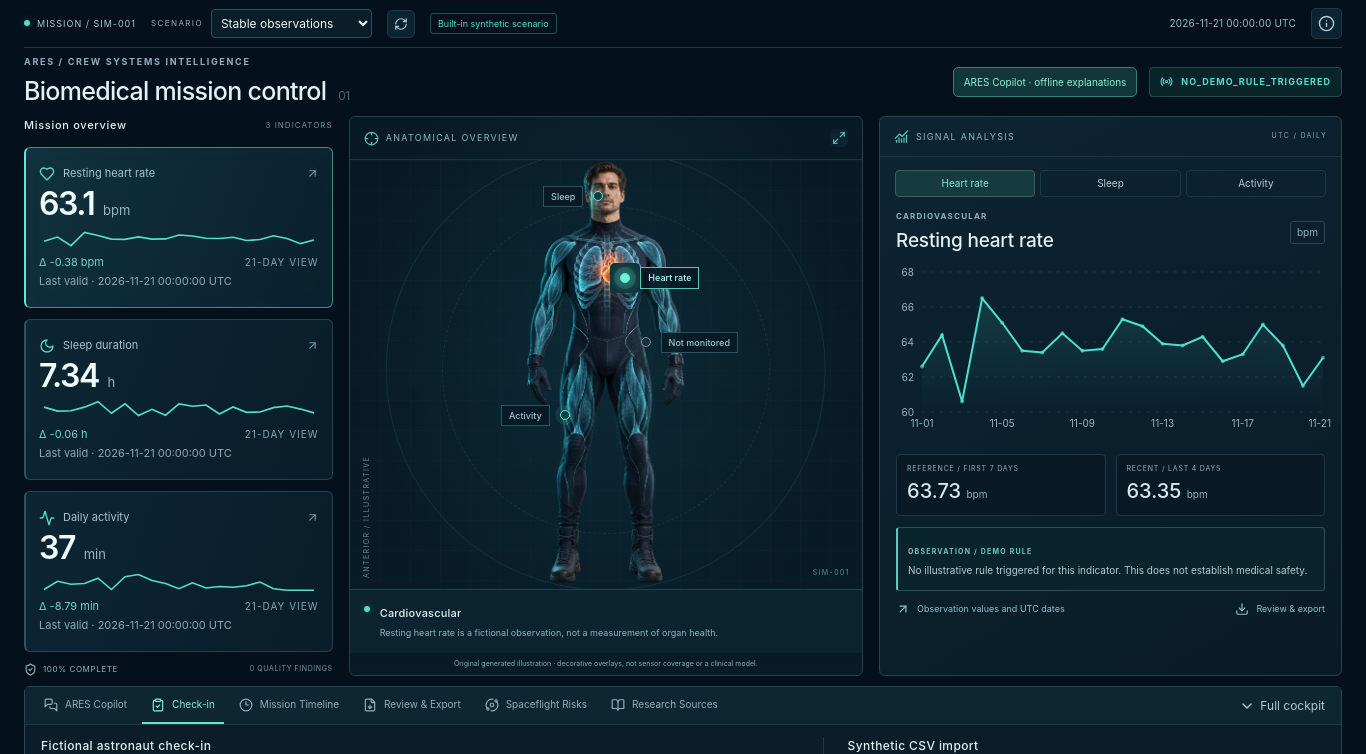
Test: loads real API shapes, all scenario states, physiological charts and scientific links
Expected: the heading "Mission overview" is shown, 24,118 -> 127,134
Click the tab "Research Sources": (664, 706) 602,687 -> 727,724
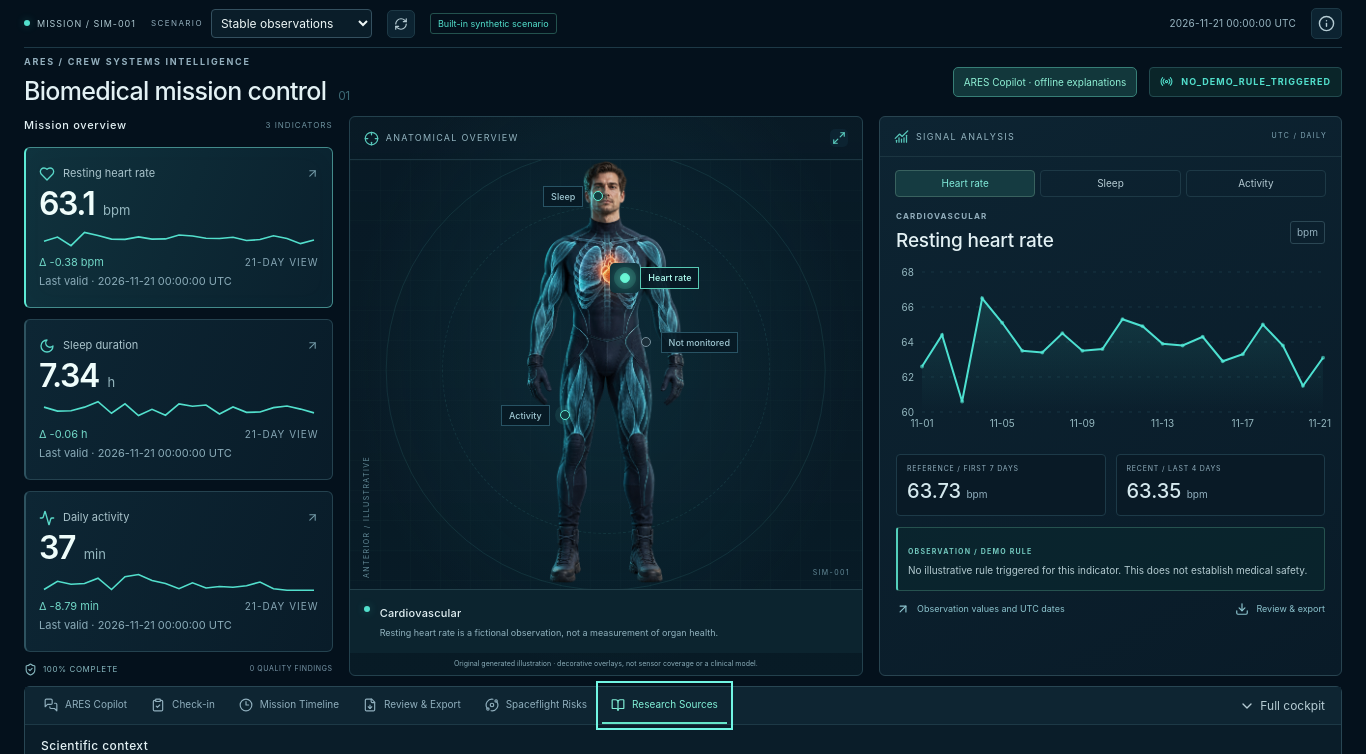
Select "Resting heart rate shift" in the dropdown named "Demo scenario": (291, 24) 211,9 -> 372,38
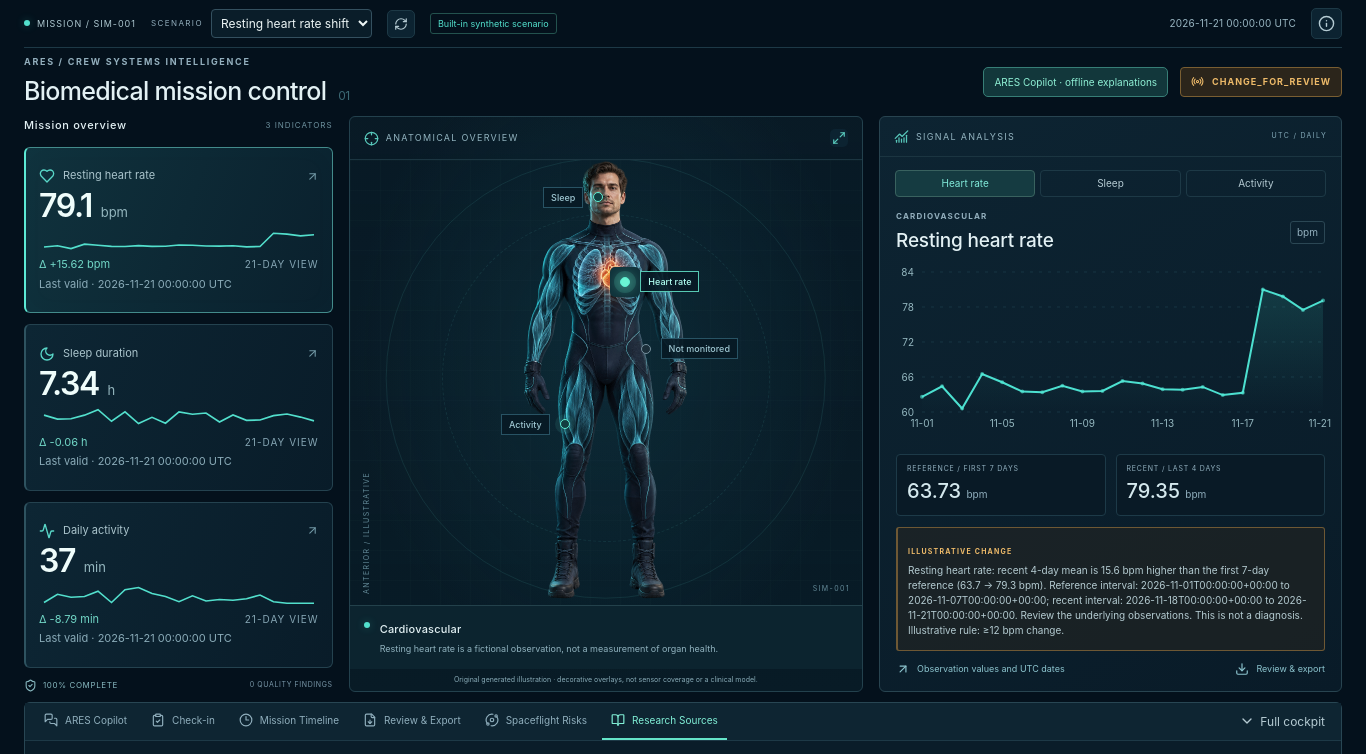
Expected: the heading "Mission overview" is shown, 24,118 -> 127,134
Result: the text "CHANGE_FOR_REVIEW" is shown at 1212,76 -> 1331,88
Select "Shortened sleep" in the dropdown named "Demo scenario": (291, 24) 211,9 -> 372,38
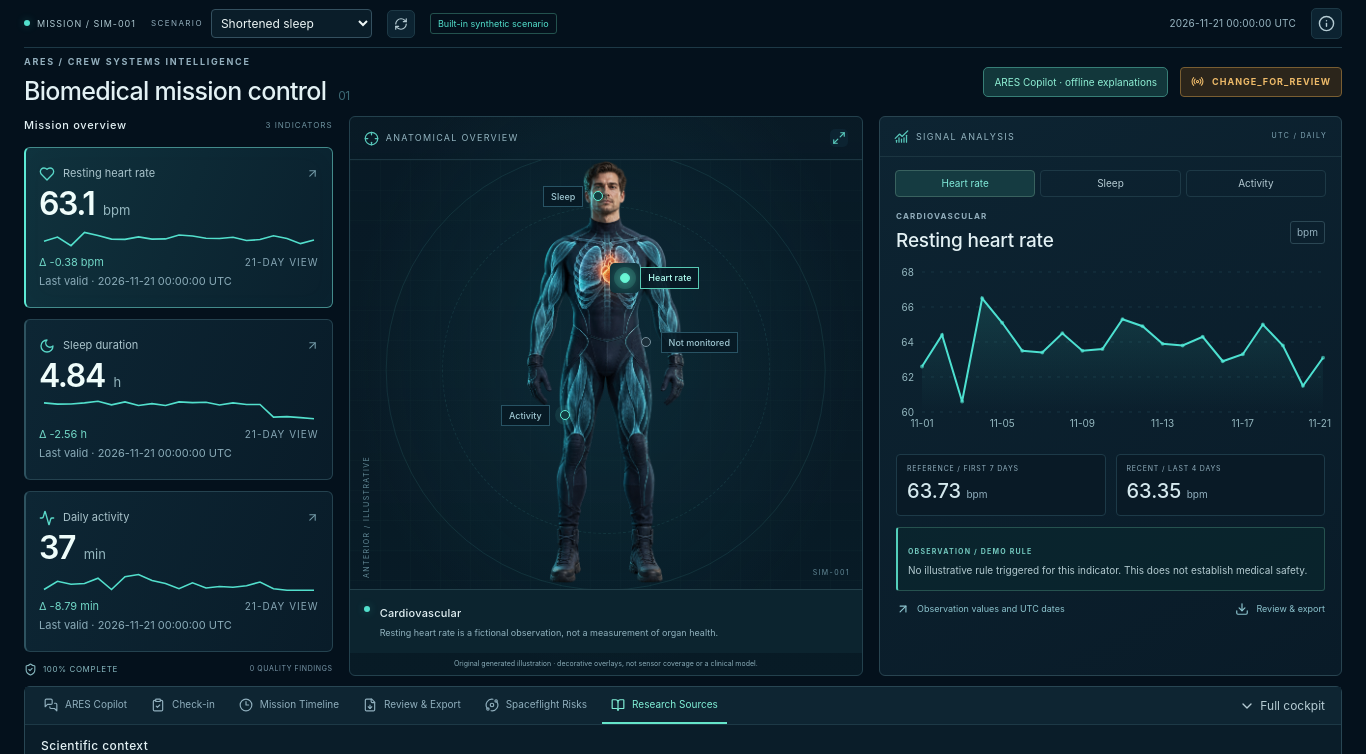
Expected: the heading "Mission overview" is shown, 24,118 -> 127,134
Result: the text "CHANGE_FOR_REVIEW" is shown at 1212,76 -> 1331,88
Select "Incomplete records" in the dropdown named "Demo scenario": (291, 24) 211,9 -> 372,38
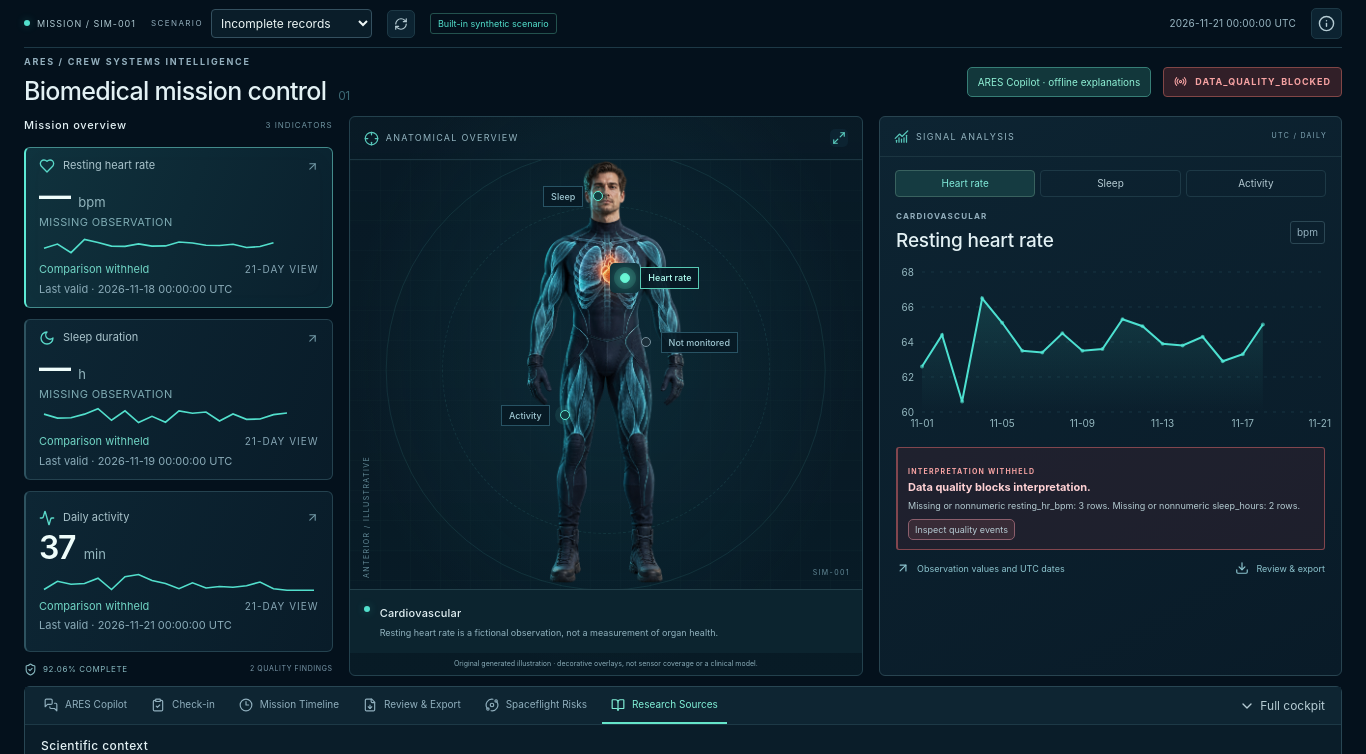
Expected: the heading "Mission overview" is shown, 24,118 -> 127,134
Result: the text "DATA_QUALITY_BLOCKED" is shown at 1195,76 -> 1331,88
Select "Stable observations" in the dropdown named "Demo scenario": (291, 24) 211,9 -> 372,38
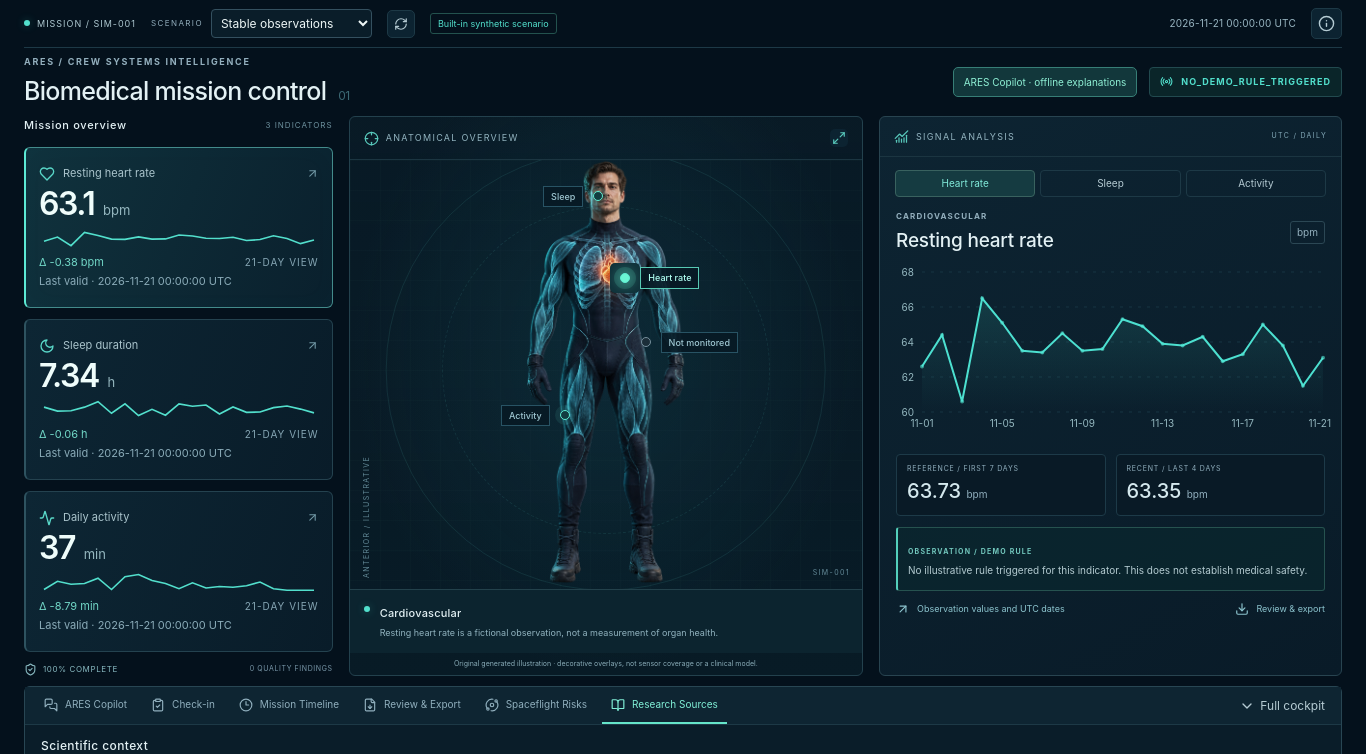
Expected: the heading "Mission overview" is shown, 24,118 -> 127,134
Result: the text "NO_DEMO_RULE_TRIGGERED" is shown at 1181,76 -> 1331,88
